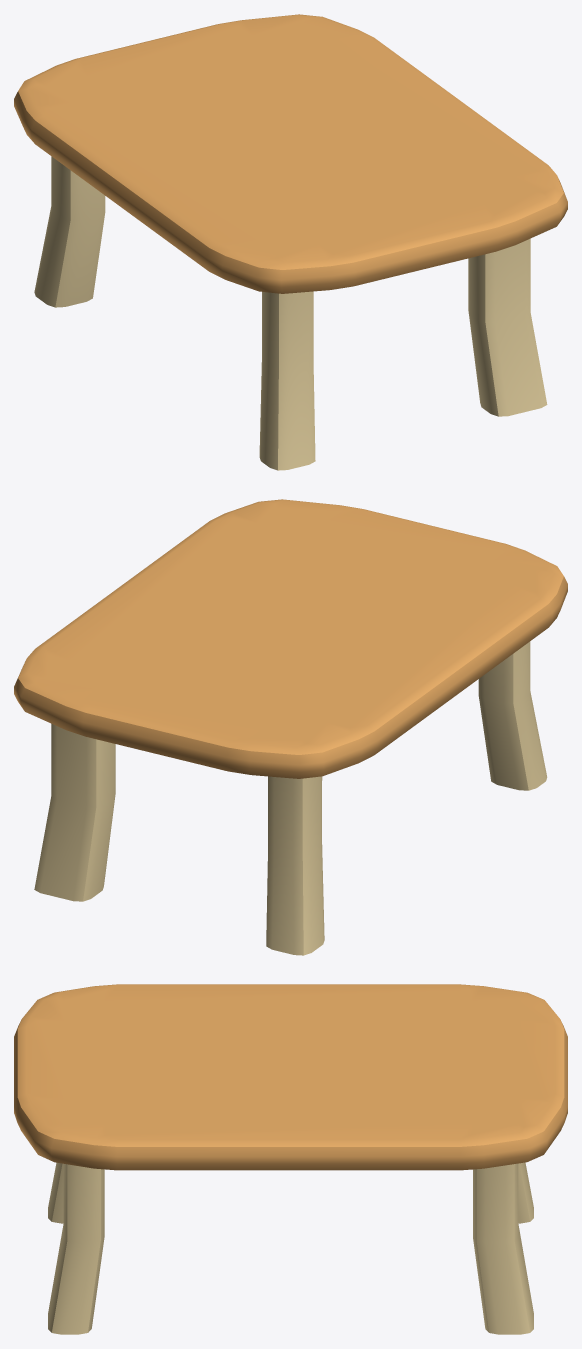
Rendered from FloorTable.fbx.
3 renders of one model, top to bottom at view 1: azimuth 30°, elevation 25°; view 2: azimuth 150°, elevation 25°; view 3: azimuth 270°, elevation 25°, orthographic.
Visible parts, largest first — view 1: FloorTable; view 2: FloorTable; view 3: FloorTable.
Boxes of the visible parts, x1,y1,x2,y2 form: FloorTable: (14,14,567,470); FloorTable: (14,499,567,955); FloorTable: (14,984,567,1334).
Size of the model in its own units: 30.37 by 17.62 by 42.91.
1 material, 1 textured.
